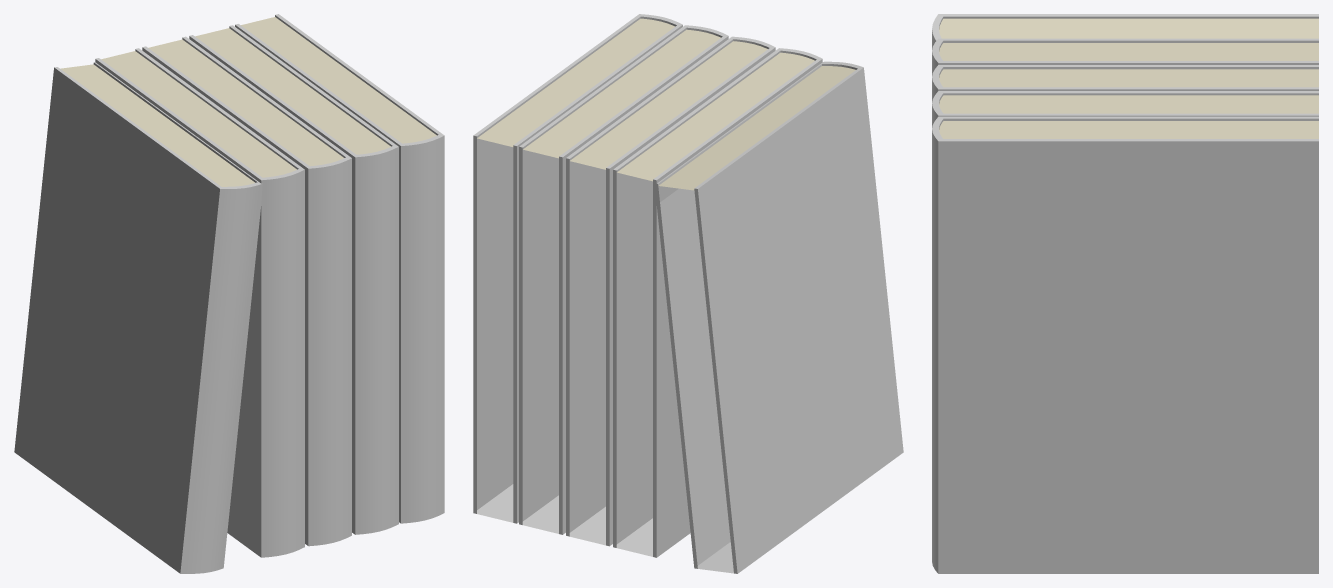
The model's file is SM_Book_End.fbx.
3 views of the same model, side by side, from view 1: azimuth 30°, elevation 25°; view 2: azimuth 150°, elevation 25°; view 3: azimuth 270°, elevation 25° (orthographic). The views are drawn at different scales.
Parts seen in each view (by area): view 1: SM_Book_End; view 2: SM_Book_End; view 3: SM_Book_End.
Boxes of the visible parts, <box> form: SM_Book_End: <box>14,14,444,573</box>; SM_Book_End: <box>473,14,903,573</box>; SM_Book_End: <box>932,14,1318,573</box>.
Bounding box in the file's own units: 17.91 × 24.62 × 19.81.
